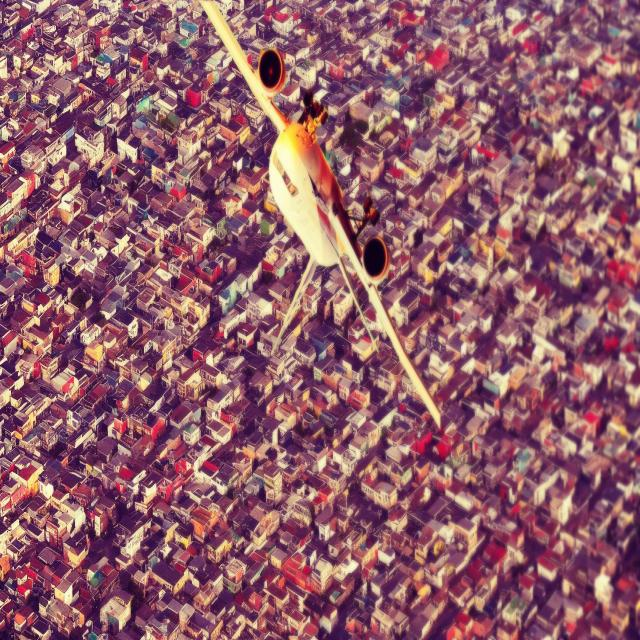airplane: (198, 0, 442, 431)
